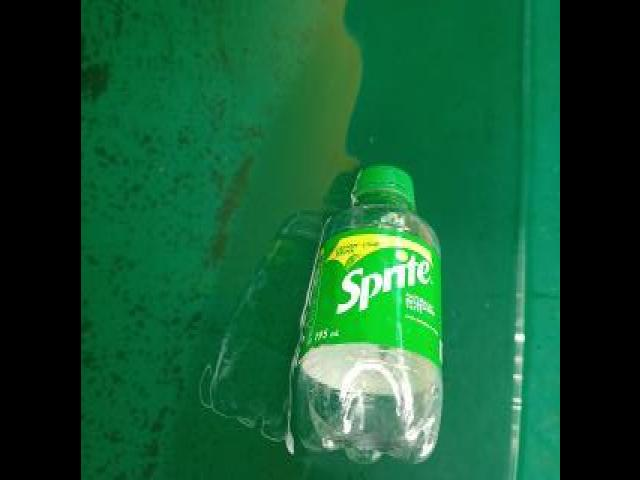Bottle: (286, 156, 448, 476)
